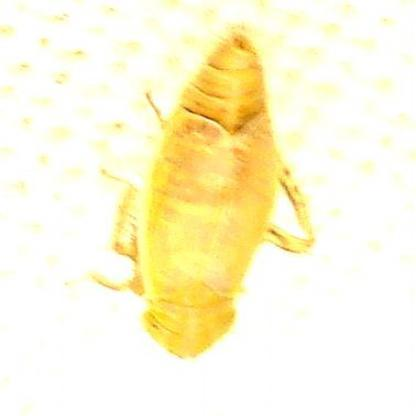green-leafhopper: (109, 43, 321, 352)
